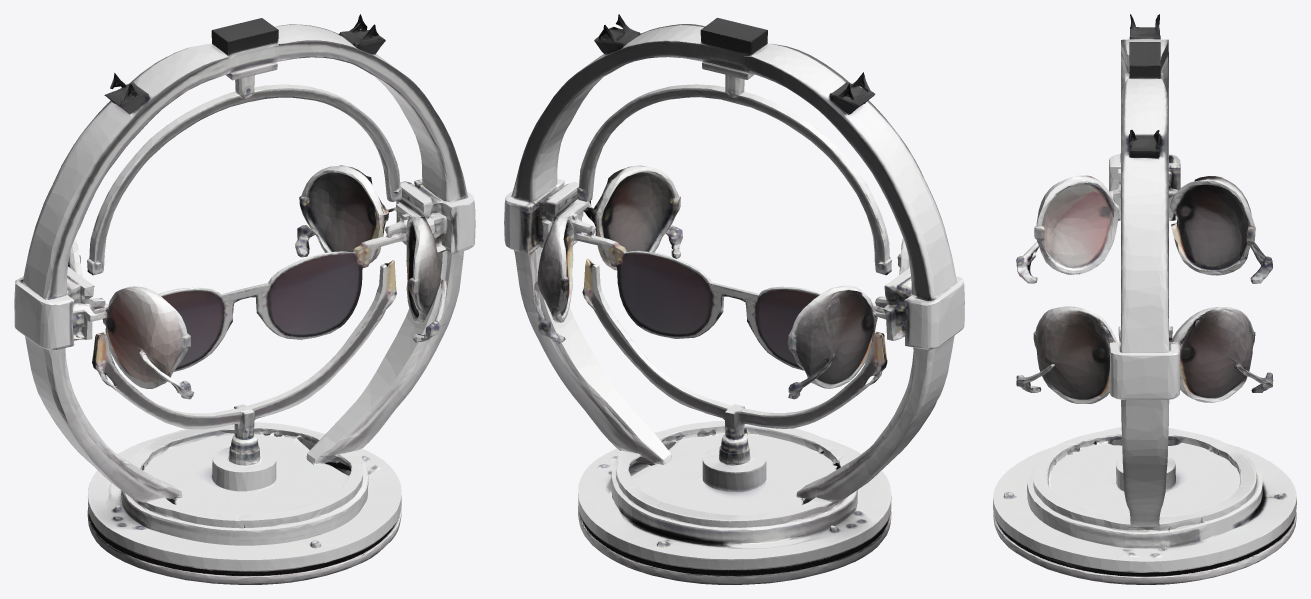
File: 3D_Womp_Prompt 03.glb
3 renders of one model, left to right at view 1: azimuth 30°, elevation 25°; view 2: azimuth 150°, elevation 25°; view 3: azimuth 270°, elevation 25°, orthographic. The views are drawn at different scales.
Bounding box in the file's own units: 92.94 × 100 × 58.82.
1 material, 1 textured.
